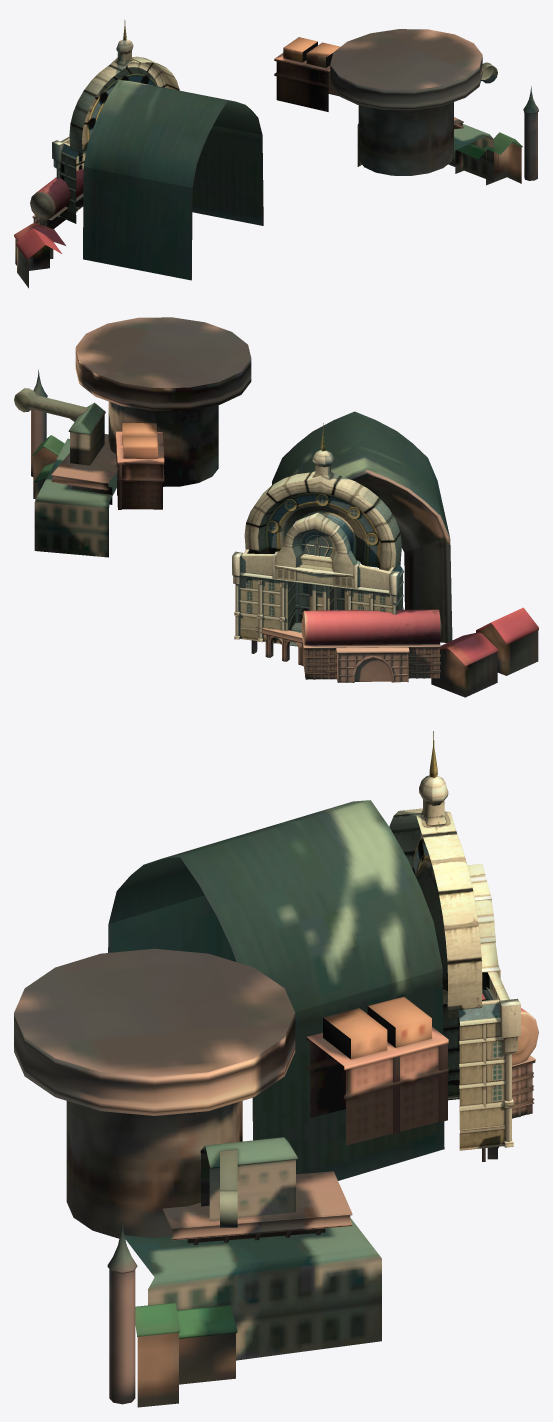
File: sc_xcb_yj07_03_um.fbx
The picture shows the model from 3 angles, top to bottom: view 1: azimuth 30°, elevation 25°; view 2: azimuth 150°, elevation 25°; view 3: azimuth 270°, elevation 25°; orthographic projection. The views are drawn at different scales.
Visible parts, largest first — view 1: sc_xcb_yj07_03; view 2: sc_xcb_yj07_03; view 3: sc_xcb_yj07_03.
Boxes of the visible parts, x1,y1,x2,y2 form: sc_xcb_yj07_03: (14,20,538,288); sc_xcb_yj07_03: (14,317,538,697); sc_xcb_yj07_03: (14,731,538,1407).
Bounding box in the file's own units: 97856 × 42553 × 47976.
